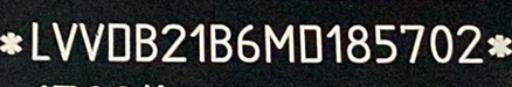letter: (260, 22, 296, 67), (295, 20, 325, 65), (454, 20, 484, 65), (158, 22, 188, 65), (371, 22, 399, 67), (398, 21, 426, 64), (426, 21, 454, 64), (232, 22, 260, 65), (76, 21, 104, 62), (50, 19, 76, 62), (132, 21, 158, 64), (206, 21, 232, 64), (106, 19, 130, 64), (346, 24, 370, 67), (26, 21, 52, 60), (188, 21, 208, 64), (324, 23, 344, 66)
